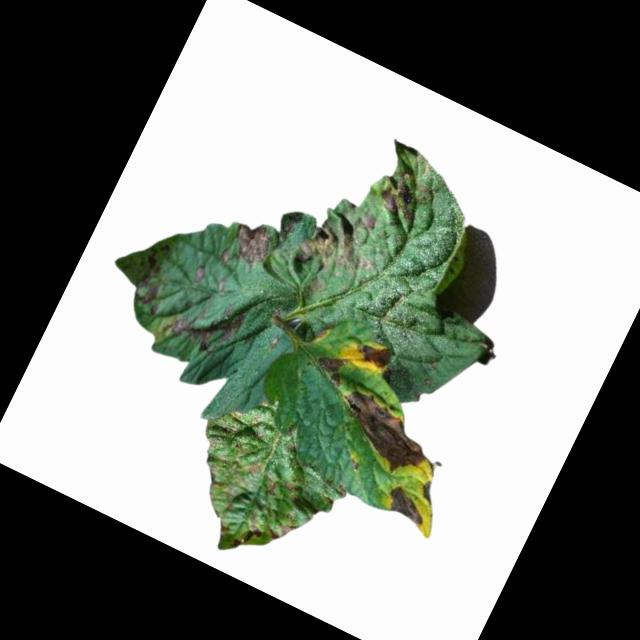Early_blight: (324, 382, 443, 485), (293, 190, 387, 284), (157, 278, 253, 366), (372, 165, 433, 226), (225, 212, 280, 269), (380, 482, 433, 529), (355, 333, 398, 378), (229, 509, 269, 557), (311, 348, 353, 388), (133, 280, 170, 319), (263, 513, 301, 547), (417, 478, 439, 503)
